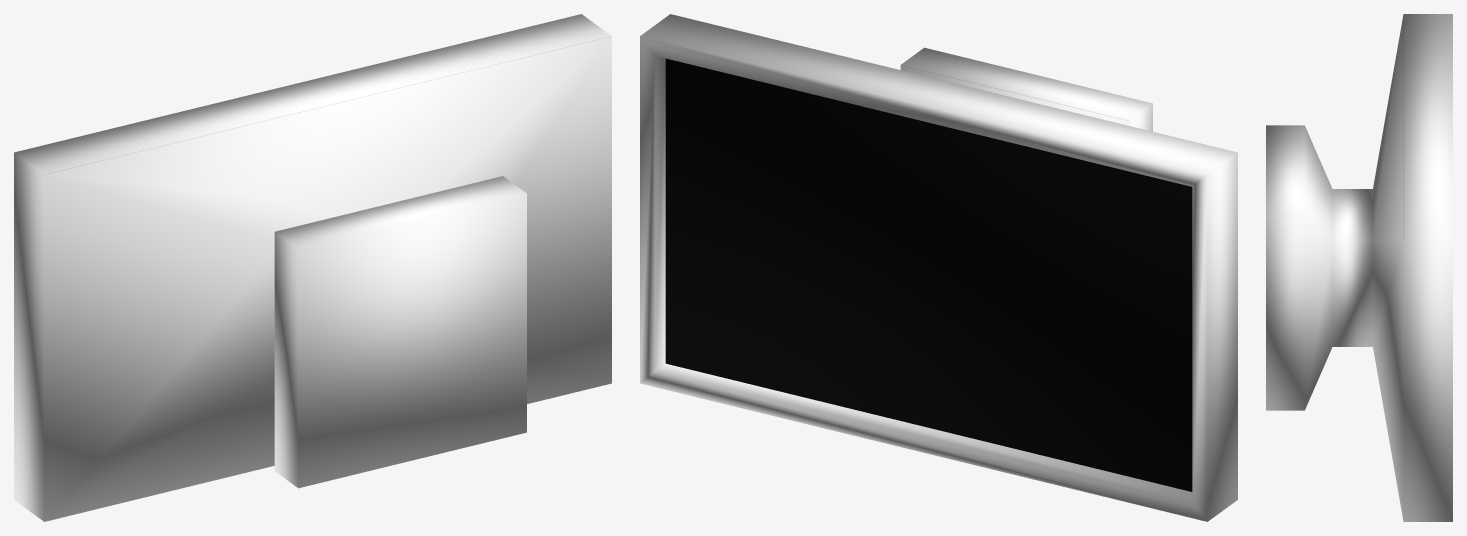
File: Camera.obj
3 renders of one model, left to right at view 1: azimuth 30°, elevation 25°; view 2: azimuth 150°, elevation 25°; view 3: azimuth 270°, elevation 25°, orthographic. The views are drawn at different scales.
Parts seen in each view (by area): view 1: Camera; view 2: Camera; view 3: Camera.
Part boxes in pixels (x1,y1,x2,y2): Camera: [14, 14, 611, 521]; Camera: [640, 14, 1237, 521]; Camera: [1266, 14, 1452, 521].
Bounding box in the file's own units: 0.9882 × 0.5778 × 0.3462.
1 material, 1 textured.
